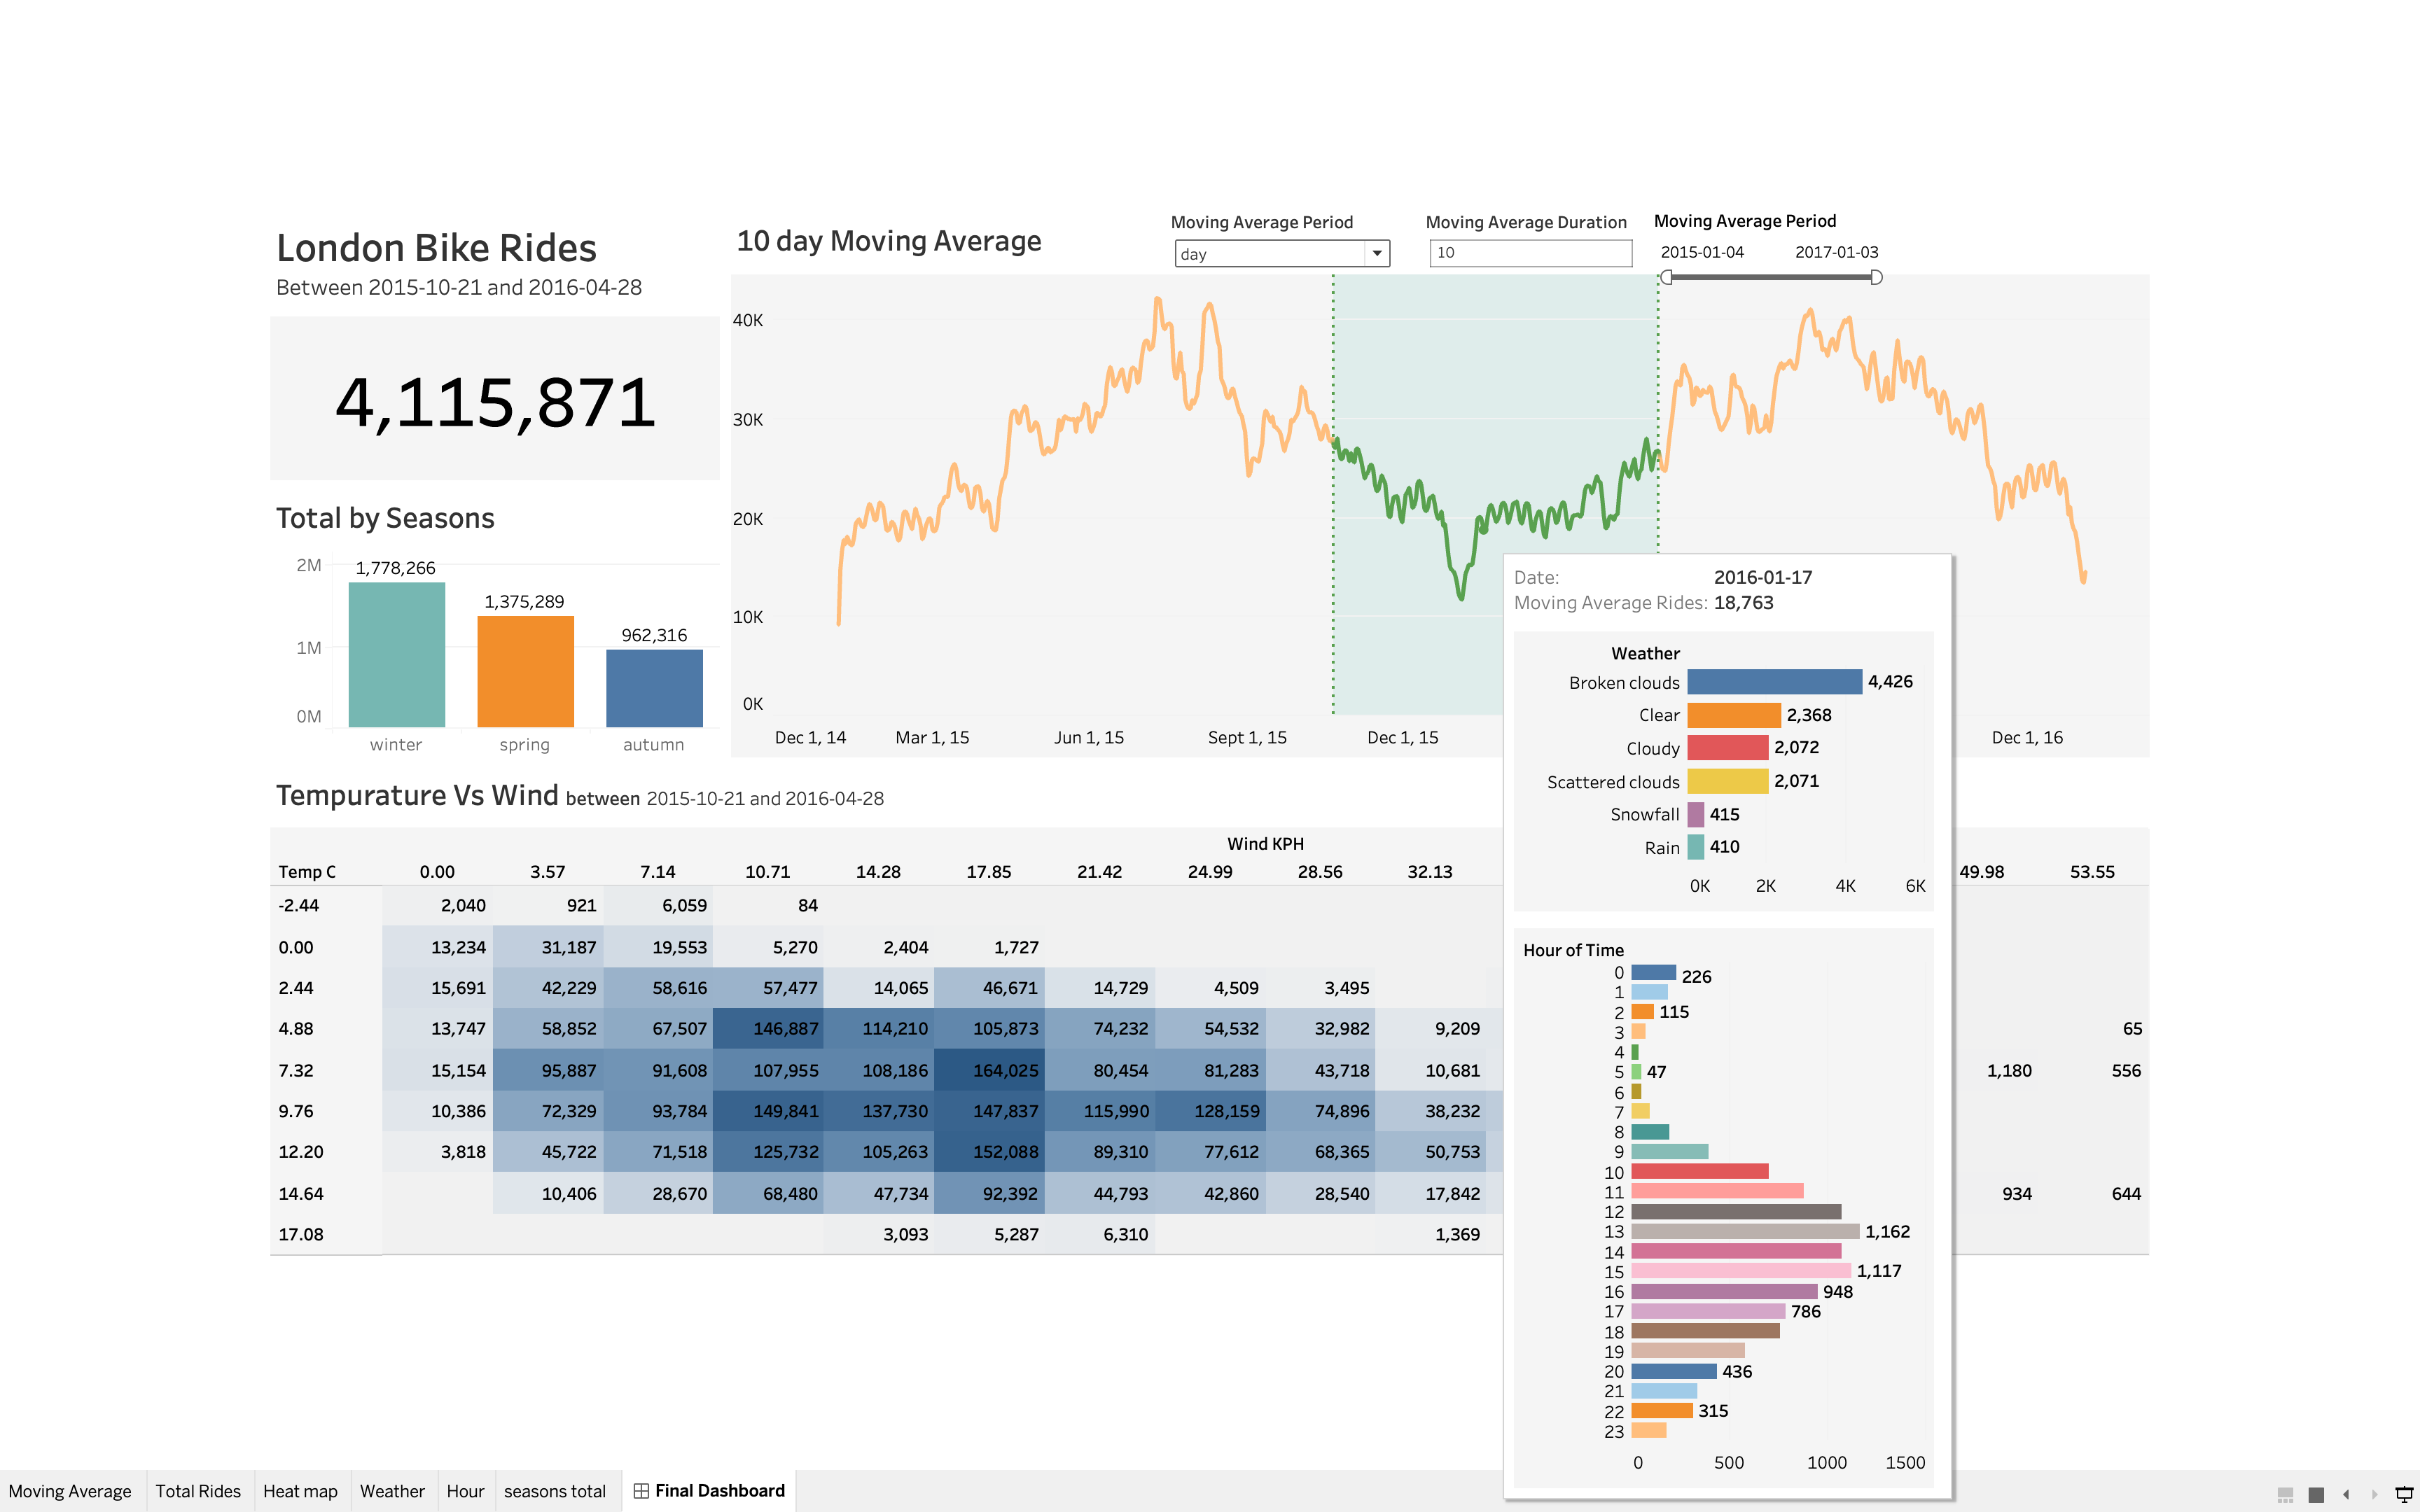

The page's visual inventory and layout, read from the dashboard file:
{"tool":"tableau","page":{"name":"Final Dashboard","canvas":[1366,768],"ordinal":0},"visuals":[{"type":"worksheet","title":"Total Rides","mark":"Automatic","box":[8,8,329,198]},{"type":"worksheet","title":"Moving Average","mark":"Line","rows":["Calculation1"],"cols":["Calculation_1195072425775435778"],"box":[337,8,1021,396]},{"type":"filter","title":"Moving Average","param":"[federated.0wmq2331d6l9u111sf4td0c3rhkm].[none:Calculation_1195072425775435778:q","box":[1000,8,168,62]},{"type":"parameter","param":"[Parameters].[Parameter 1]","box":[655,9,160,44]},{"type":"parameter","param":"[Parameters].[Parameter 2]","box":[837,9,151,44]},{"type":"worksheet","title":"seasons total","mark":"Automatic","rows":["count"],"cols":["season"],"box":[8,206,329,198]},{"type":"worksheet","title":"Heat map","mark":"Square","rows":["temp real C (bin)"],"cols":["Wind Speed Kph (bin)"],"box":[8,404,1350,356]}]}

Visuals, with their boxes on the page's 1366x768 design canvas (x1, y1, x2, y2). These are canvas units, not pixel positions in the 2420x1512 screenshot, which may show the page scaled, cropped or inside an application window:
"Total Rides" worksheet: (8, 8, 337, 206)
"Moving Average" worksheet (Line marks): (337, 8, 1358, 404)
"Moving Average" filter: (1000, 8, 1168, 70)
parameter: (655, 9, 815, 53)
parameter: (837, 9, 988, 53)
"seasons total" worksheet: (8, 206, 337, 404)
"Heat map" worksheet (Square marks): (8, 404, 1358, 760)
